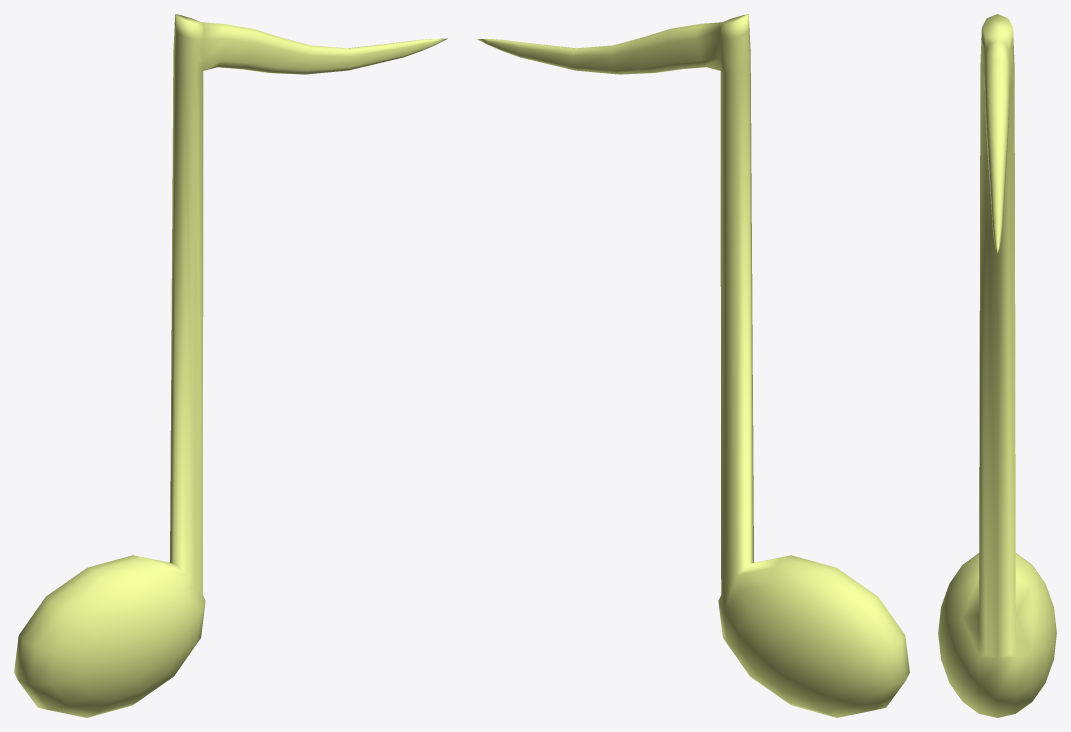
Rendered from note.glb.
The picture shows the model from 3 angles, left to right: view 1: azimuth 30°, elevation 25°; view 2: azimuth 150°, elevation 25°; view 3: azimuth 270°, elevation 25°; orthographic projection. The views are drawn at different scales.
Parts seen in each view (by area): view 1: BézierCurve; view 2: BézierCurve; view 3: BézierCurve.
Boxes of the visible parts, left/top/right/bottom form: BézierCurve: left=14, top=14, right=447, bottom=717; BézierCurve: left=477, top=14, right=909, bottom=717; BézierCurve: left=938, top=14, right=1056, bottom=717.
Size of the model in its own units: 3.17 by 4.76 by 0.7002.
